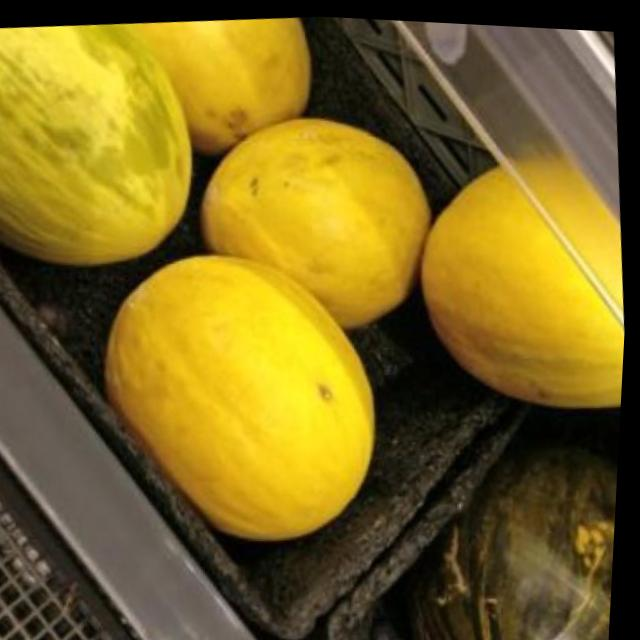Honeydew: (91, 234, 394, 554), (409, 144, 635, 415), (190, 102, 448, 338), (0, 10, 207, 278), (104, 4, 322, 164)
